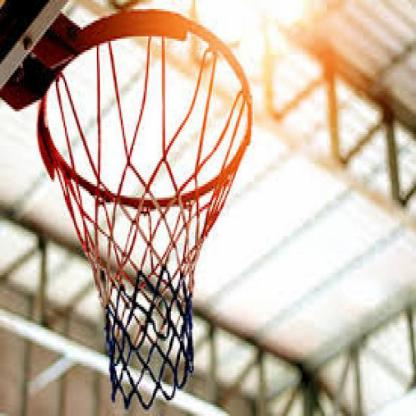rim: (36, 9, 254, 212)
